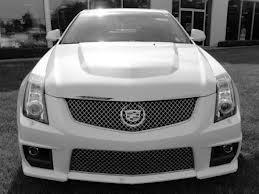car: (15, 8, 246, 191)
